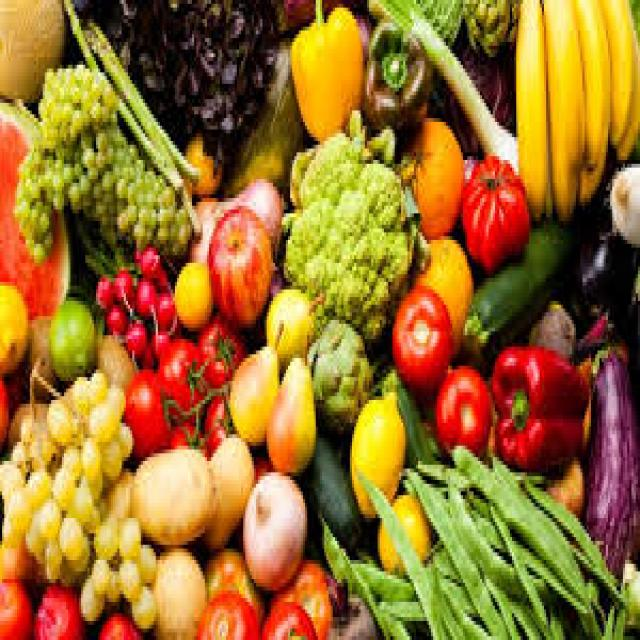biodegradable: (73, 0, 282, 168), (282, 115, 429, 351), (369, 0, 516, 171), (448, 438, 582, 617), (66, 0, 183, 194), (0, 92, 92, 317), (493, 450, 599, 636), (90, 15, 199, 183), (403, 465, 506, 636), (563, 137, 638, 339), (352, 465, 437, 636), (461, 221, 567, 354), (525, 465, 627, 602), (222, 31, 305, 195), (582, 343, 638, 583), (444, 480, 548, 606), (489, 347, 587, 465), (288, 0, 363, 137), (130, 442, 218, 548), (433, 46, 512, 156), (188, 175, 282, 263), (459, 149, 529, 267), (512, 0, 550, 217), (410, 232, 472, 358), (316, 514, 380, 636), (239, 469, 303, 591), (207, 202, 271, 324), (98, 164, 190, 248), (542, 0, 576, 217), (348, 389, 405, 518), (305, 316, 371, 427), (401, 114, 461, 236), (572, 0, 608, 202), (303, 423, 360, 548), (265, 332, 316, 469), (570, 0, 612, 164), (34, 130, 122, 206), (200, 431, 254, 553), (391, 282, 450, 392), (0, 0, 66, 95), (229, 320, 280, 442), (597, 0, 638, 141), (34, 61, 117, 129), (271, 553, 333, 637), (433, 362, 489, 453), (149, 545, 205, 636), (380, 366, 433, 461), (263, 286, 325, 362), (13, 148, 53, 263), (373, 488, 427, 572), (124, 362, 171, 453), (73, 210, 135, 271), (197, 313, 246, 389), (431, 560, 482, 632), (86, 145, 137, 217), (49, 294, 92, 374), (325, 572, 376, 637), (350, 556, 414, 606), (156, 336, 198, 412), (460, 0, 516, 53), (616, 23, 638, 156), (171, 255, 211, 328), (192, 591, 256, 636), (203, 545, 256, 598), (482, 572, 525, 637), (32, 579, 81, 636), (179, 126, 220, 191), (96, 328, 132, 396), (527, 293, 572, 347), (437, 549, 474, 614), (608, 160, 638, 240), (542, 454, 584, 511), (418, 457, 469, 503), (0, 282, 26, 366), (167, 168, 199, 236), (26, 313, 53, 393), (258, 598, 314, 636), (412, 0, 461, 42), (0, 575, 32, 636), (203, 385, 233, 450), (8, 396, 45, 446), (616, 556, 638, 629), (103, 465, 133, 518), (280, 0, 337, 27), (0, 534, 34, 576), (378, 598, 412, 636), (26, 435, 60, 473), (94, 610, 143, 636), (2, 488, 28, 537), (45, 396, 70, 446), (378, 594, 423, 621), (510, 598, 540, 636), (24, 465, 51, 507), (130, 274, 156, 316), (58, 510, 79, 560), (166, 419, 203, 446), (34, 499, 60, 537), (132, 240, 160, 274), (66, 370, 88, 412), (66, 534, 88, 576), (132, 583, 154, 625), (115, 515, 139, 553), (79, 438, 100, 480), (26, 430, 51, 465), (137, 541, 156, 587), (151, 290, 173, 328), (6, 435, 28, 473), (124, 320, 145, 358), (79, 576, 100, 614), (79, 438, 100, 476), (56, 469, 75, 511), (94, 522, 117, 556), (86, 408, 116, 434), (102, 381, 124, 415), (98, 438, 117, 476), (0, 457, 19, 495), (147, 328, 171, 358), (102, 301, 126, 331), (21, 408, 45, 438), (58, 442, 79, 476), (88, 369, 107, 404), (0, 377, 9, 450), (600, 602, 625, 628), (111, 267, 128, 305), (81, 503, 100, 537), (120, 560, 137, 598), (41, 537, 58, 572), (90, 556, 107, 591), (113, 423, 130, 457), (77, 480, 96, 510), (26, 530, 47, 556), (94, 270, 111, 301), (141, 339, 156, 362), (107, 564, 117, 598), (156, 267, 169, 290)
